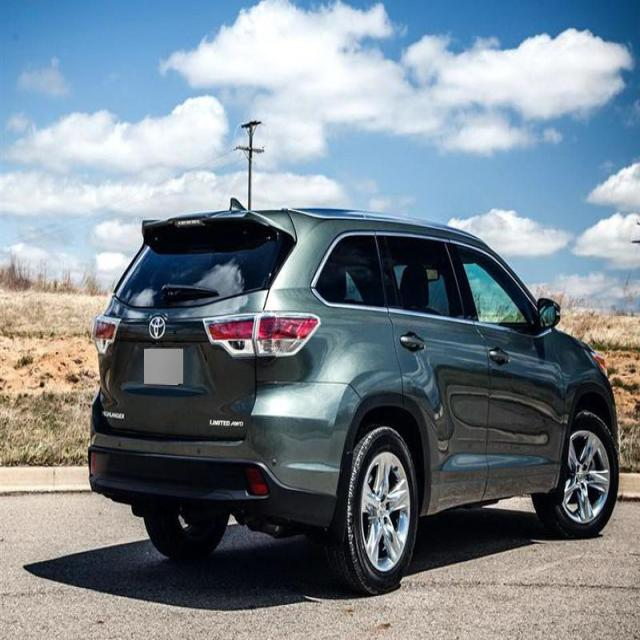back_glass: (110, 216, 296, 312)
back_left_side_light: (90, 310, 122, 358)
back_right_side_light: (202, 314, 322, 356)
door: (368, 229, 495, 510)
front_right_side_door: (446, 233, 566, 509)
front_right_side_mirror: (535, 297, 561, 332)
rear_bumper: (88, 378, 362, 530)
wheel: (329, 426, 418, 594), (546, 411, 619, 537)
